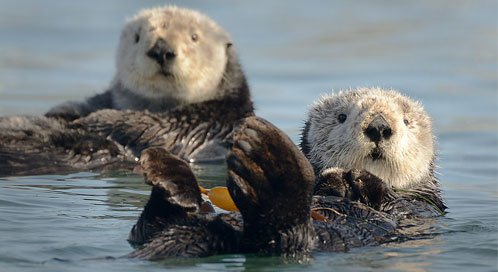otter: (133, 77, 433, 272), (96, 8, 270, 118)
